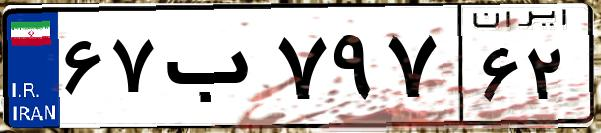2: (525, 38, 570, 115)
6: (57, 26, 110, 100), (475, 38, 525, 113)
7: (270, 28, 330, 110), (385, 28, 445, 110), (110, 28, 158, 98)
9: (330, 28, 385, 110)
ب: (158, 20, 270, 120)
